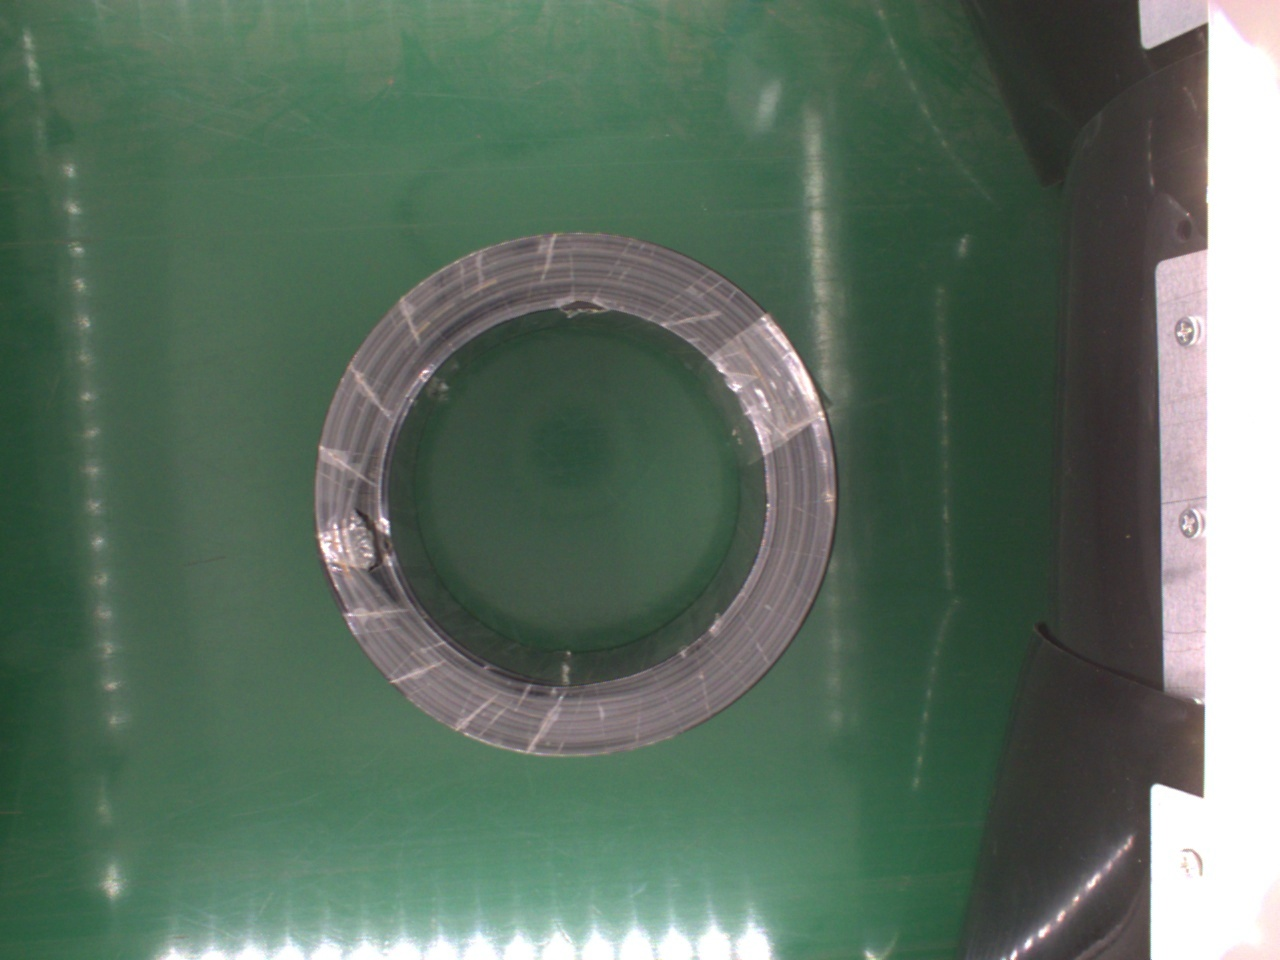black: (312, 226, 834, 756)
